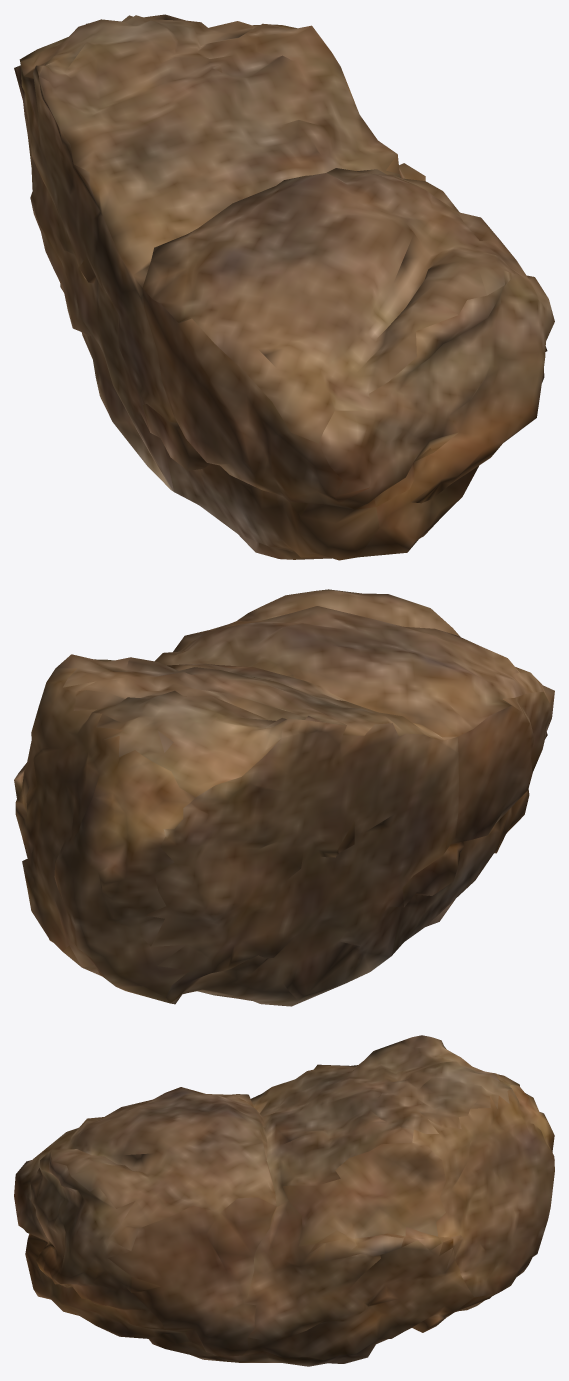
Rendered from ph_boulder_5.glb.
3 renders of one model, top to bottom at view 1: azimuth 30°, elevation 25°; view 2: azimuth 150°, elevation 25°; view 3: azimuth 270°, elevation 25°, orthographic. The views are drawn at different scales.
Visible parts, largest first — view 1: ph_boulder_5_lod1; view 2: ph_boulder_5_lod1; view 3: ph_boulder_5_lod1.
Boxes of the visible parts, box(x1,y1,x2,y2) form: ph_boulder_5_lod1: box(14, 14, 554, 560); ph_boulder_5_lod1: box(14, 589, 554, 1006); ph_boulder_5_lod1: box(14, 1035, 554, 1366).
Bounding box in the file's own units: 0.6753 × 0.6474 × 1.21.
1 material, 1 textured.
